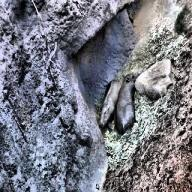boar: (114, 72, 139, 134), (98, 78, 122, 131)
